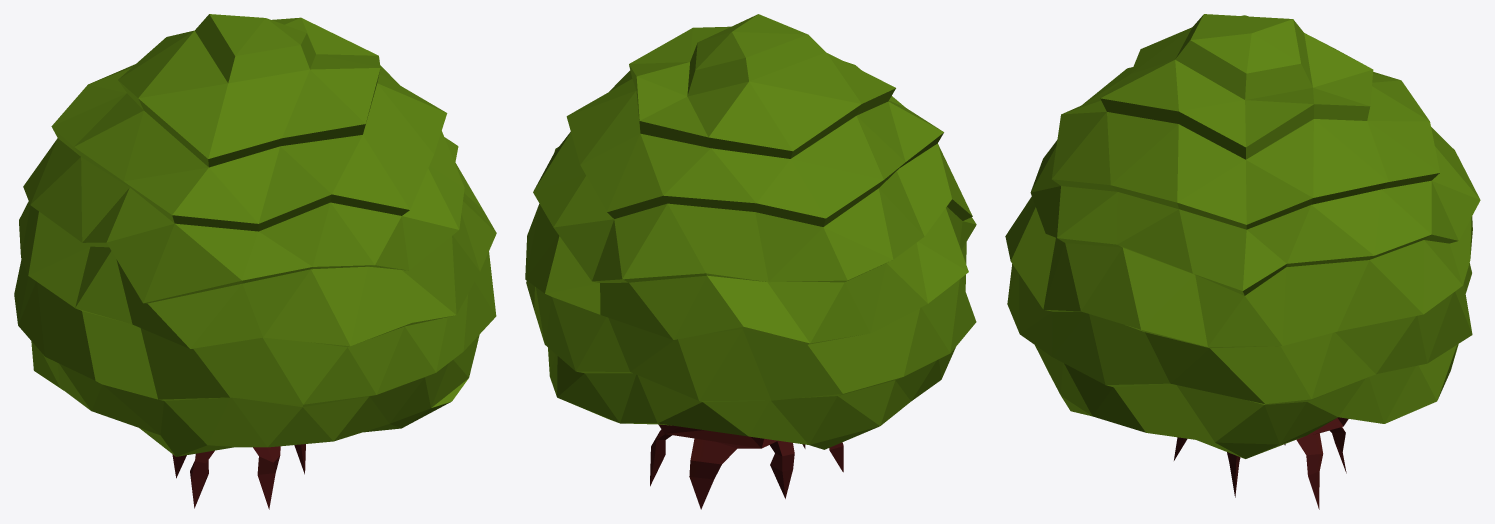
File: Bush.fbx
The picture shows the model from 3 angles, left to right: view 1: azimuth 30°, elevation 25°; view 2: azimuth 150°, elevation 25°; view 3: azimuth 270°, elevation 25°; orthographic projection. The views are drawn at different scales.
Parts seen in each view (by area): view 1: Bush; view 2: Bush; view 3: Bush.
Boxes of the visible parts, bbox=[...] form: Bush: bbox=[14, 14, 496, 509]; Bush: bbox=[525, 14, 976, 509]; Bush: bbox=[1005, 14, 1480, 509].
Bounding box in the file's own units: 1.67 × 1.75 × 1.67.
